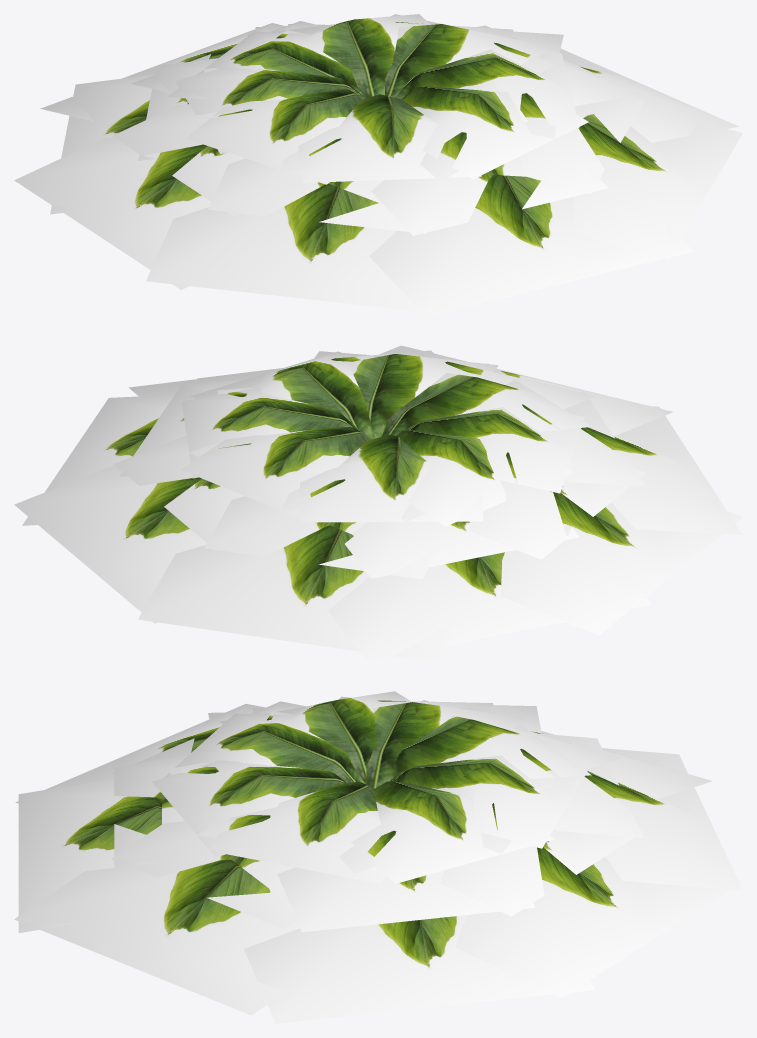
Rendered from Bush1.fbx.
3 views of the same model, one above another, from view 1: azimuth 30°, elevation 25°; view 2: azimuth 150°, elevation 25°; view 3: azimuth 270°, elevation 25° (orthographic). The views are drawn at different scales.
Parts seen in each view (by area): view 1: Plane1160; view 2: Plane1160; view 3: Plane1160.
Part boxes in pixels (left/top/right/bottom): Plane1160: left=14, top=14, right=742, bottom=316; Plane1160: left=14, top=345, right=742, bottom=662; Plane1160: left=14, top=691, right=742, bottom=1023.
Size of the model in its own units: 159 by 39.95 by 154.
1 material, 1 textured.
